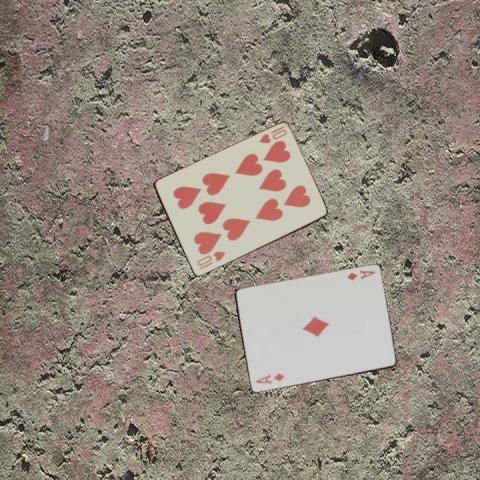10h: (193, 249, 227, 271), (256, 124, 288, 146)
Ad: (344, 267, 377, 282), (253, 371, 286, 385)
